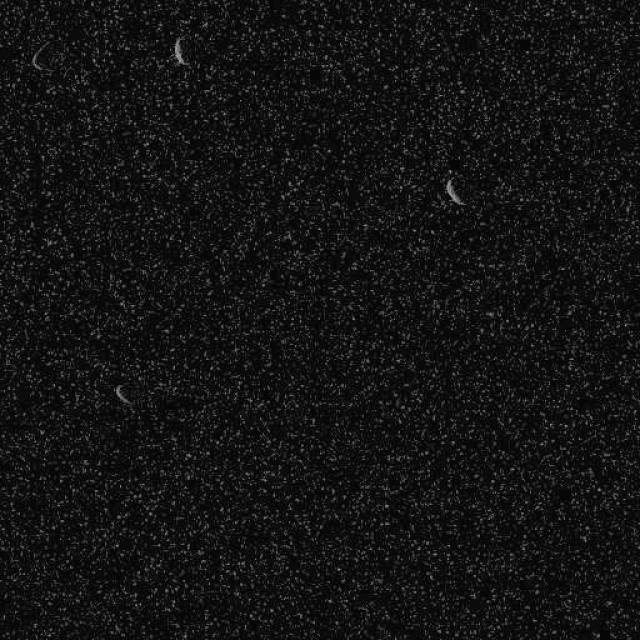D2: (30, 38, 66, 74), (442, 176, 467, 206), (171, 35, 189, 66), (114, 381, 132, 405)
